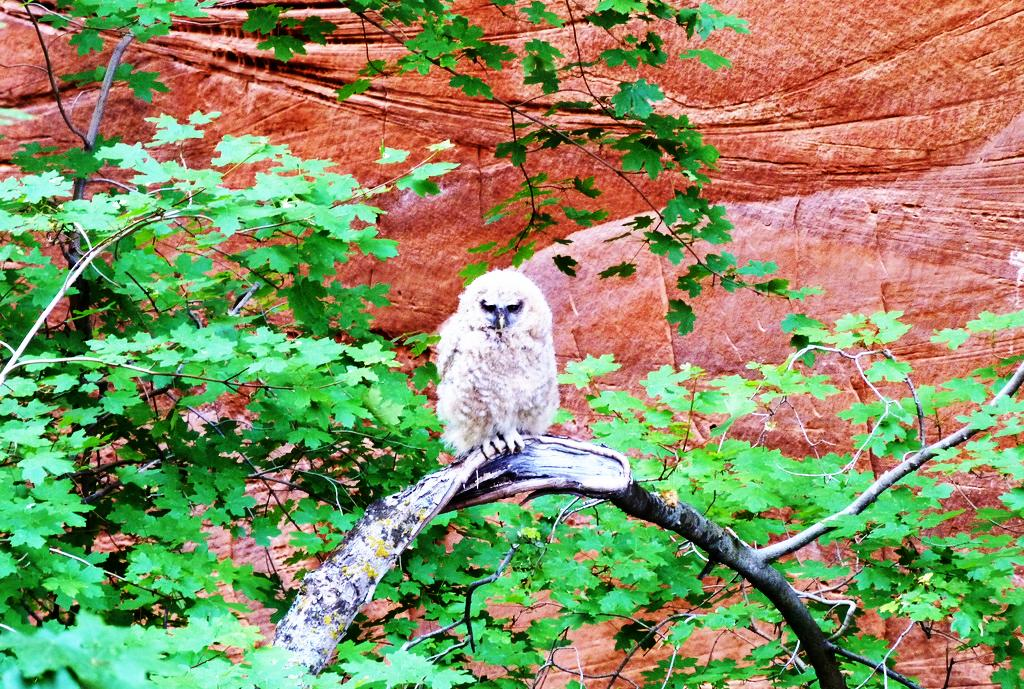Owl: (436, 266, 566, 455)
